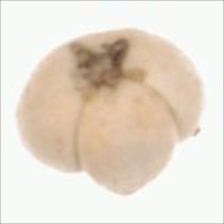L5: (66, 77, 189, 202), (67, 40, 151, 104)
L6: (14, 26, 213, 202)
